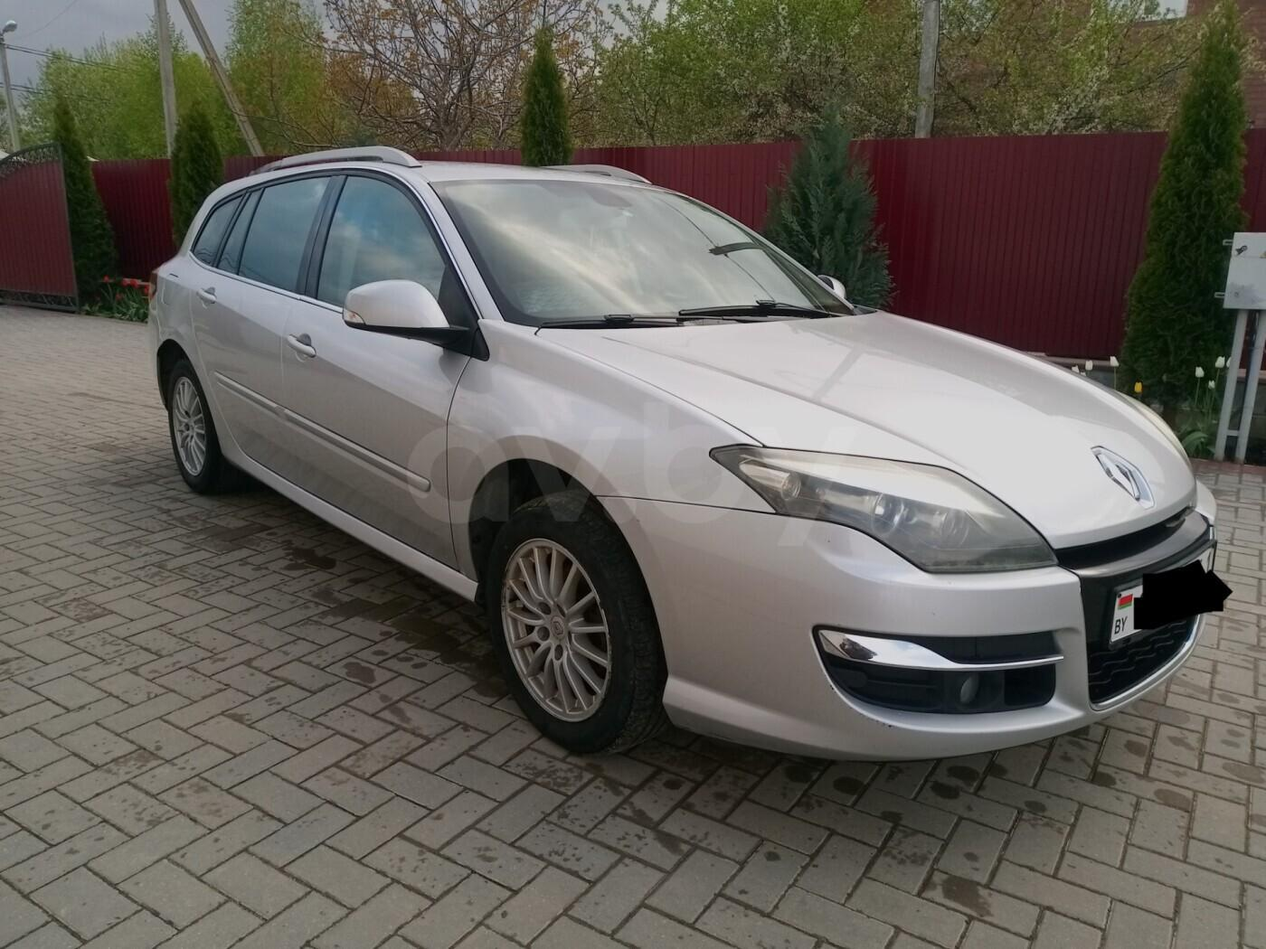Laguna_2010-2015: (147, 154, 1231, 785)
